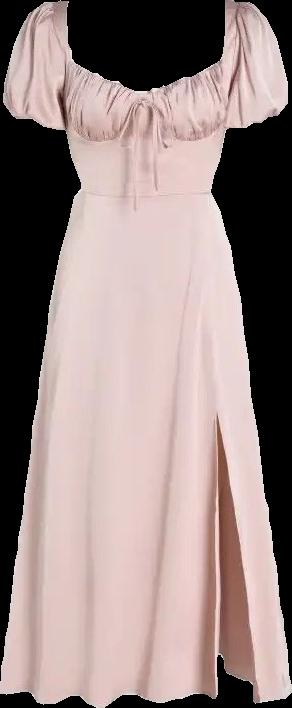Bodice: (47, 0, 241, 199)
Hemline: (0, 411, 291, 707)
Neckline: (61, 0, 232, 102), (64, 105, 231, 146)
Skirt: (0, 192, 291, 706)
Sleeve: (226, 2, 287, 129), (3, 2, 62, 129)
Sleeveline: (44, 3, 69, 130), (224, 0, 245, 126)
Waistline: (78, 187, 209, 203)
